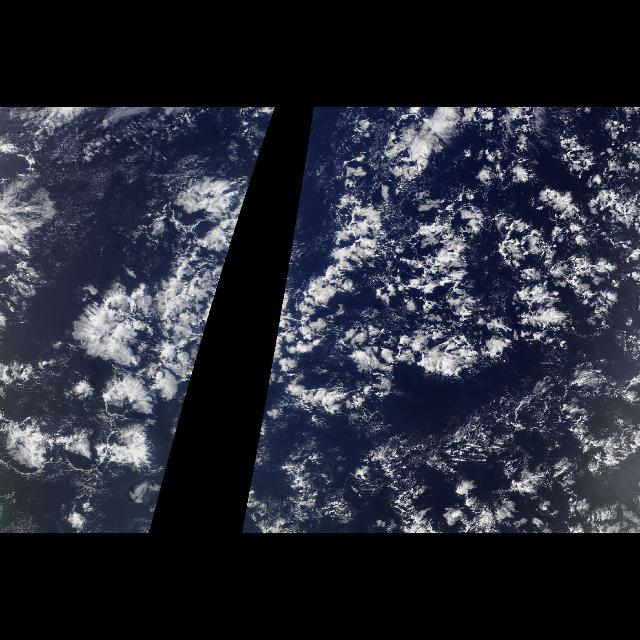Flower: (0, 182, 252, 482), (313, 180, 632, 396), (250, 452, 256, 483)
Sugar: (37, 148, 113, 254)
